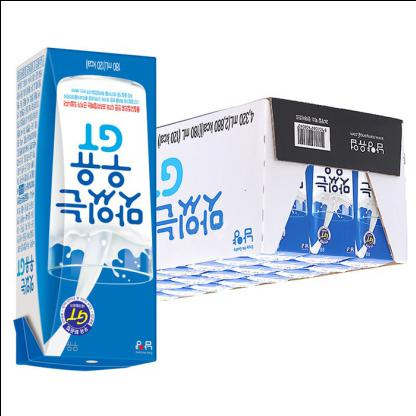tetra: (3, 40, 163, 388)
